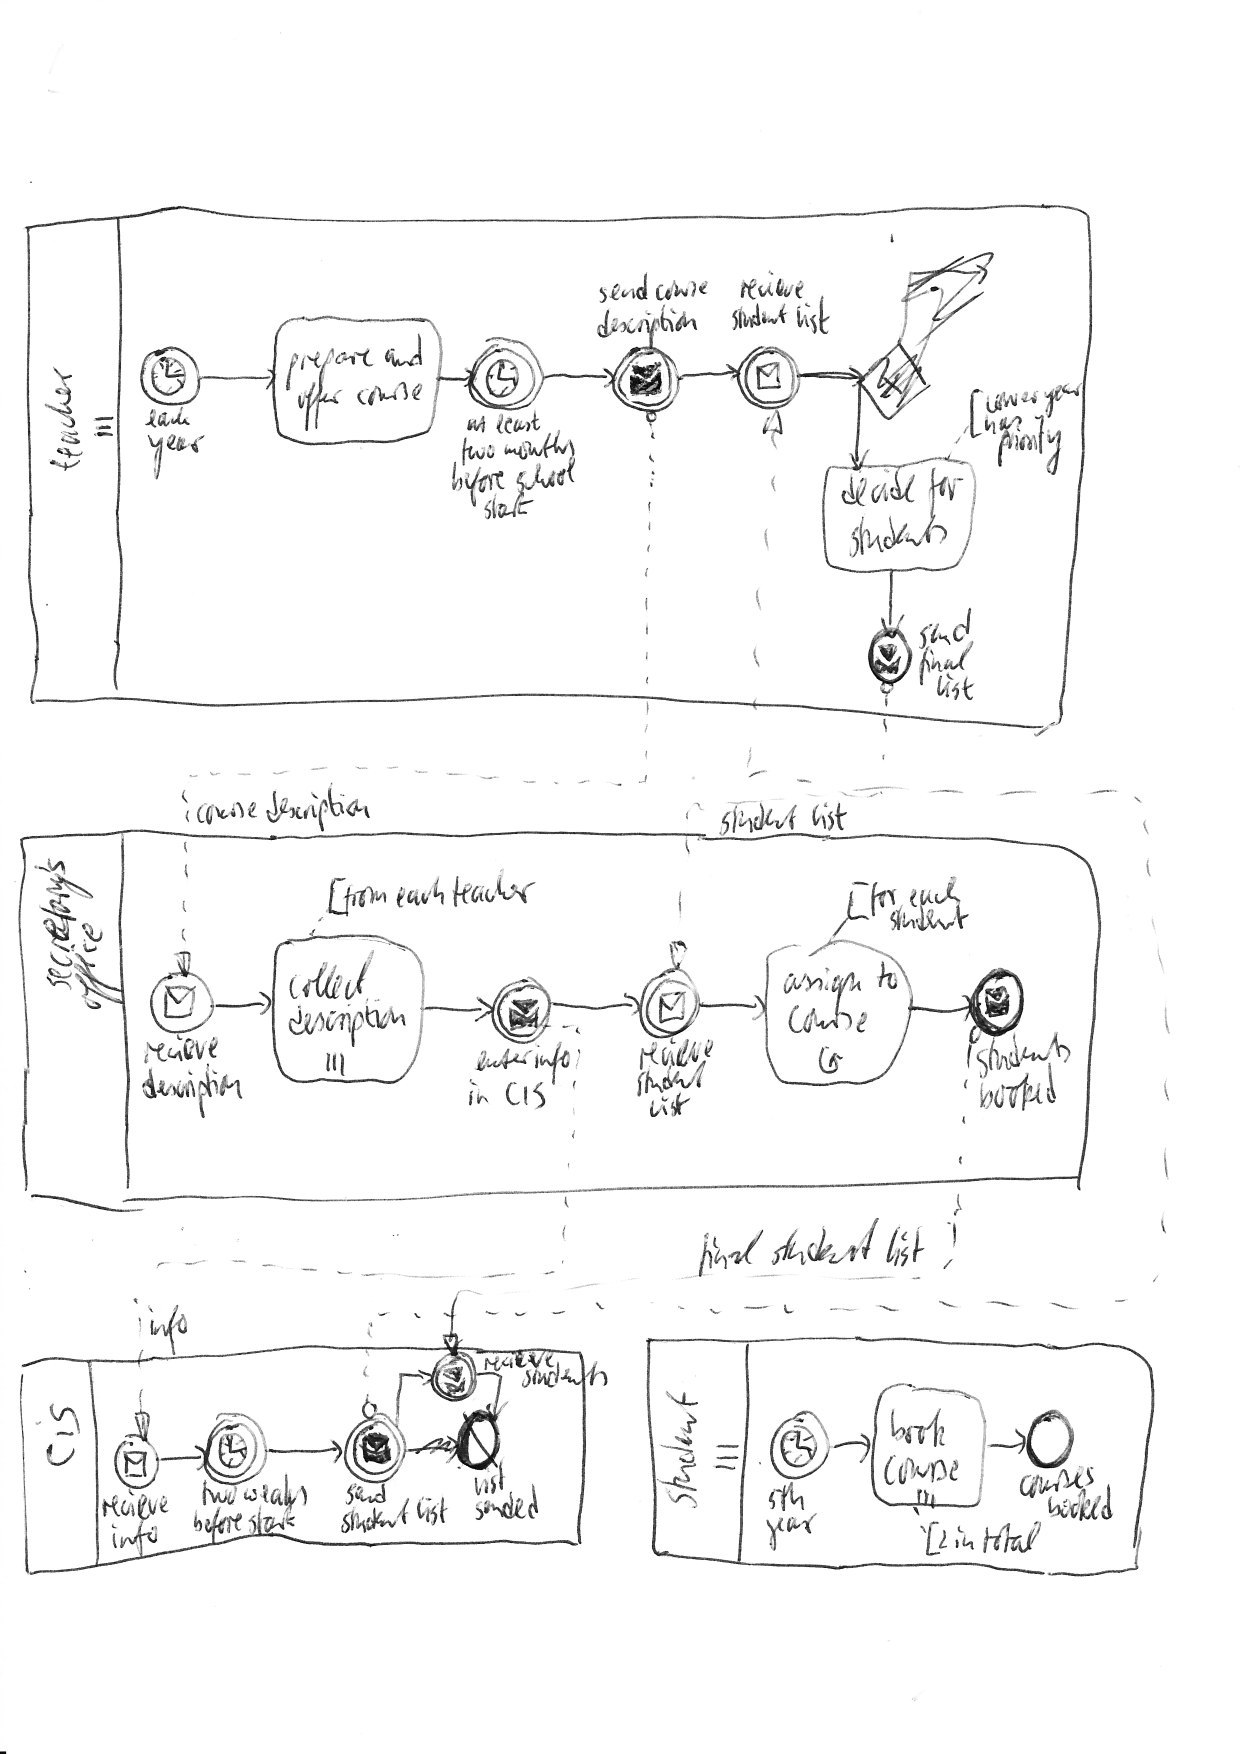2: (937, 1525, 949, 1550)
5th: (763, 1479, 806, 1516)
CIS: (34, 1406, 84, 1464), (502, 1081, 551, 1111)
Secretary's: (31, 858, 71, 991)
[from: (327, 875, 390, 914)
[lower: (963, 395, 1040, 420)
and: (380, 336, 427, 369)
assign: (783, 964, 863, 999)
at: (465, 414, 488, 439)
before: (452, 464, 505, 508), (189, 1509, 245, 1545)
book: (886, 1410, 951, 1450)
booked: (974, 1070, 1058, 1111), (1047, 1489, 1115, 1524)
collect: (289, 950, 376, 999)
course: (882, 1452, 962, 1486), (784, 1006, 870, 1037), (192, 792, 257, 827), (654, 278, 712, 305), (357, 384, 425, 405)
courses: (1014, 1470, 1097, 1499)
decide: (838, 468, 915, 505)
description: (141, 1065, 245, 1118), (261, 783, 371, 831), (287, 1002, 407, 1042), (598, 307, 699, 349)
each: (395, 873, 446, 913), (905, 873, 961, 909), (144, 405, 189, 430)
enter: (474, 1044, 534, 1075)
final: (911, 642, 973, 685)
find: (694, 1228, 765, 1282)
for: (926, 470, 965, 509), (869, 878, 900, 913)
has: (981, 412, 1025, 433)
in: (462, 1077, 494, 1107), (951, 1524, 976, 1551)
info: (144, 1302, 190, 1353), (104, 1521, 165, 1555), (532, 1043, 572, 1084)
least: (493, 409, 542, 436)
list: (884, 1223, 926, 1266), (790, 297, 833, 335), (411, 1494, 454, 1527), (469, 1462, 508, 1496), (805, 800, 849, 831), (932, 674, 975, 703), (646, 1093, 690, 1120)
months: (504, 432, 574, 462)
offer: (294, 381, 345, 432)
office: (73, 923, 121, 1014)
prepare: (285, 347, 374, 388)
printy: (994, 419, 1061, 474)
receive: (139, 1032, 220, 1066), (481, 1346, 557, 1372)
recieve: (634, 1034, 715, 1066), (735, 270, 806, 300), (102, 1490, 169, 1517)
school: (512, 456, 579, 493)
send: (598, 273, 649, 304), (342, 1485, 390, 1507)
sended: (467, 1499, 541, 1533)
start: (243, 1506, 300, 1536), (482, 493, 536, 523)
stud: (917, 611, 976, 648)
student: (772, 1217, 880, 1267), (660, 1391, 700, 1512), (717, 803, 801, 837), (628, 1063, 710, 1095), (338, 1501, 410, 1537), (884, 907, 969, 934), (724, 306, 785, 338)
students: (844, 511, 949, 557), (968, 1041, 1068, 1080), (519, 1365, 610, 1389)
teacher: (42, 366, 84, 474), (450, 867, 539, 908)
to: (872, 962, 902, 990)
total: (976, 1519, 1043, 1559)
two: (196, 1480, 243, 1509), (459, 436, 497, 464)
weaks: (244, 1472, 308, 1508)
year: (149, 430, 205, 478), (766, 1510, 818, 1550), (1041, 384, 1083, 417)
